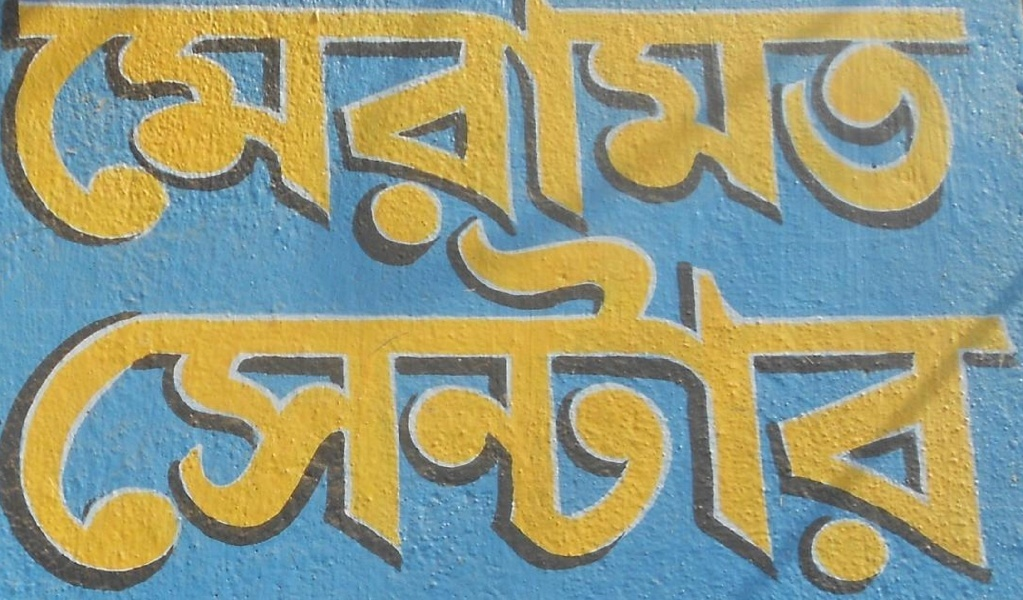text: (17, 206, 32, 597), (33, 206, 48, 597), (49, 206, 64, 597), (65, 206, 80, 597), (81, 206, 96, 597), (97, 206, 112, 597), (113, 206, 128, 597), (129, 206, 144, 597), (145, 206, 160, 597), (161, 206, 176, 597), (177, 206, 192, 597), (193, 206, 208, 597), (209, 206, 224, 597), (225, 206, 240, 597), (241, 206, 256, 597), (257, 206, 272, 597), (273, 206, 288, 597), (289, 206, 304, 597), (305, 206, 320, 597), (321, 206, 336, 597), (337, 206, 352, 597), (353, 206, 368, 597), (369, 206, 384, 597), (385, 206, 400, 597), (401, 206, 416, 597), (417, 206, 432, 597), (433, 206, 448, 597), (449, 206, 464, 597), (465, 206, 480, 597), (481, 206, 496, 597), (497, 206, 512, 597), (513, 206, 528, 597), (529, 206, 544, 597), (545, 206, 560, 597), (561, 206, 576, 597), (577, 206, 592, 597), (593, 206, 608, 597), (609, 206, 624, 597), (625, 206, 640, 597), (641, 206, 656, 597), (657, 206, 672, 597), (673, 206, 688, 597), (689, 206, 704, 597), (705, 206, 720, 597), (721, 206, 736, 597), (737, 206, 752, 597), (753, 206, 768, 597), (769, 206, 784, 597), (785, 206, 800, 597), (801, 206, 816, 597), (817, 206, 832, 597), (833, 206, 848, 597), (849, 206, 864, 597), (865, 206, 880, 597), (881, 206, 896, 597), (897, 206, 912, 597), (913, 206, 928, 597), (929, 206, 944, 597), (945, 206, 960, 597), (961, 206, 976, 597), (977, 206, 992, 597), (993, 206, 1008, 597), (1009, 206, 1023, 597), (1, 2, 16, 259), (17, 2, 32, 259), (33, 2, 48, 259), (49, 2, 64, 259), (65, 2, 80, 259), (81, 2, 96, 259), (97, 2, 112, 259), (113, 2, 128, 259), (129, 2, 144, 259), (145, 2, 160, 259), (161, 2, 176, 259), (177, 2, 192, 259), (193, 2, 208, 259), (209, 2, 224, 259), (225, 2, 240, 259), (241, 2, 256, 259), (257, 2, 272, 259), (273, 2, 288, 259), (289, 2, 304, 259), (305, 2, 320, 259), (321, 2, 336, 259), (337, 2, 352, 259), (353, 2, 368, 259), (369, 2, 384, 259), (385, 2, 400, 259), (401, 2, 416, 259), (417, 2, 432, 259), (433, 2, 448, 259), (449, 2, 464, 259), (465, 2, 480, 259), (481, 2, 496, 259), (497, 2, 512, 259), (513, 2, 528, 259), (529, 2, 544, 259), (545, 2, 560, 259), (561, 2, 576, 259), (577, 2, 592, 259), (593, 2, 608, 259), (609, 2, 624, 259), (625, 2, 640, 259), (641, 2, 656, 259), (657, 2, 672, 259), (673, 2, 688, 259), (689, 2, 704, 259), (705, 2, 720, 259), (721, 2, 736, 259), (737, 2, 752, 259), (753, 2, 768, 259), (769, 2, 784, 259), (785, 2, 800, 259), (801, 2, 816, 259), (817, 2, 832, 259), (833, 2, 848, 259), (849, 2, 864, 259), (865, 2, 880, 259), (881, 2, 896, 259), (897, 2, 912, 259), (913, 2, 928, 259), (929, 2, 944, 259), (945, 2, 960, 259), (961, 2, 976, 259), (9, 206, 16, 597), (977, 2, 986, 259)
